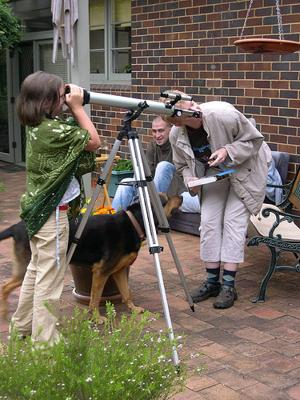person: (10, 72, 101, 352)
